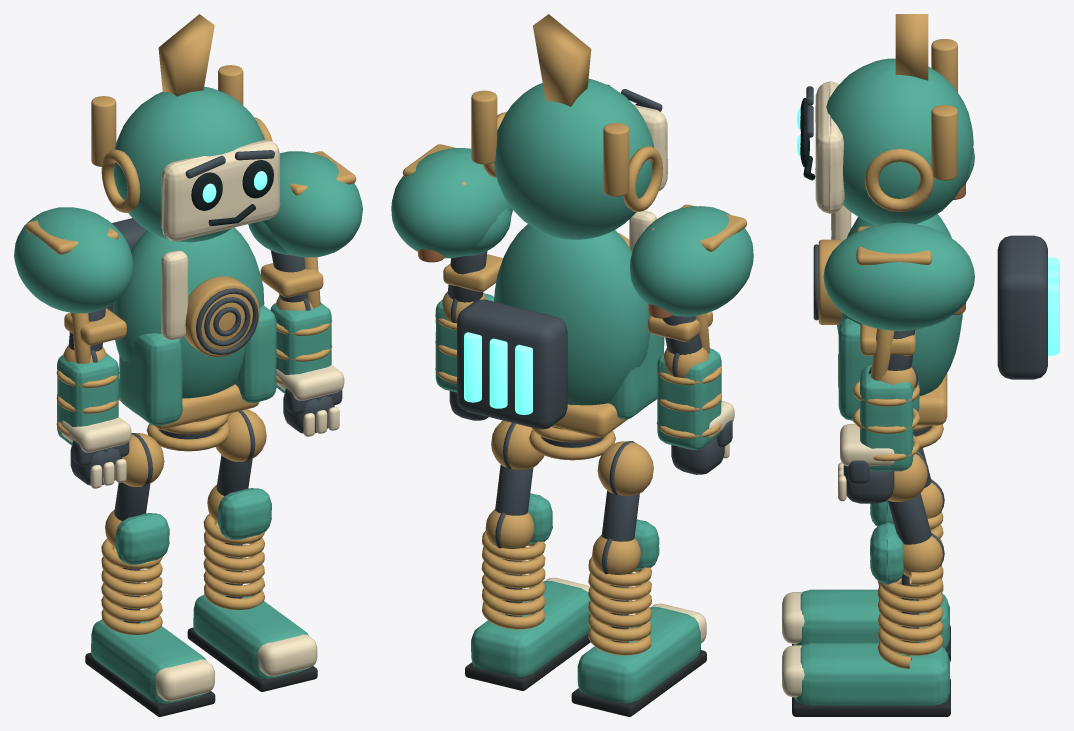
Rendered from spring_duelist.t4.glb.
3 views of the same model, side by side, from view 1: azimuth 30°, elevation 25°; view 2: azimuth 150°, elevation 25°; view 3: azimuth 270°, elevation 25° (orthographic). The views are drawn at different scales.
Visible parts, largest first — view 1: slot_torso__clay_duelist_jade__clay, slot_head__clay_duelist_jade__clay, slot_armL__clay_duelist_jade__clay, slot_armR__clay_duelist_jade__clay, slot_head__worn_warm_brass__protected, slot_legL__clay_duelist_jade__clay, slot_legR__clay_duelist_jade__clay, slot_head__clay_warm_ivory__clay, slot_legR__worn_warm_brass__protected, slot_torso__worn_warm_brass__protected, slot_legL__worn_warm_brass__protected, armL_elbow__clay_duelist_jade__clay (+24 smaller); view 2: slot_torso__clay_duelist_jade__clay, slot_head__clay_duelist_jade__clay, slot_armL__clay_duelist_jade__clay, slot_armR__clay_duelist_jade__clay, slot_torso__forged_bluelead_steel__protected, slot_head__worn_warm_brass__protected, slot_legL__worn_warm_brass__protected, slot_legR__worn_warm_brass__protected, slot_legL__clay_duelist_jade__clay, slot_legR__clay_duelist_jade__clay, armL_elbow__clay_duelist_jade__clay, slot_torso__mint_reticle__protected (+14 smaller); view 3: slot_head__clay_duelist_jade__clay, slot_armR__clay_duelist_jade__clay, slot_legR__clay_duelist_jade__clay, slot_torso__forged_bluelead_steel__protected, slot_legR__worn_warm_brass__protected, slot_head__worn_warm_brass__protected, slot_torso__clay_duelist_jade__clay, slot_legL__clay_duelist_jade__clay, armR_elbow__clay_duelist_jade__clay, slot_armR__worn_warm_brass__protected, slot_head__clay_warm_ivory__clay, slot_torso__worn_warm_brass__protected (+13 smaller).
Boxes of the visible parts, x1,y1,x2,y2 form: slot_torso__clay_duelist_jade__clay: [113, 227, 276, 425]; slot_head__clay_duelist_jade__clay: [113, 86, 264, 242]; slot_armL__clay_duelist_jade__clay: [14, 207, 133, 313]; slot_armR__clay_duelist_jade__clay: [248, 151, 362, 257]; slot_head__worn_warm_brass__protected: [91, 14, 272, 212]; slot_legL__clay_duelist_jade__clay: [91, 513, 206, 703]; slot_legR__clay_duelist_jade__clay: [193, 488, 308, 678]; slot_head__clay_warm_ivory__clay: [161, 140, 280, 241]; slot_legR__worn_warm_brass__protected: [203, 409, 266, 609]; slot_torso__worn_warm_brass__protected: [119, 276, 259, 451]; slot_legL__worn_warm_brass__protected: [101, 433, 164, 634]; armL_elbow__clay_duelist_jade__clay: [57, 353, 118, 445]; slot_torso__clay_duelist_jade__clay: [494, 224, 664, 419]; slot_head__clay_duelist_jade__clay: [494, 78, 653, 239]; slot_armL__clay_duelist_jade__clay: [630, 206, 753, 316]; slot_armR__clay_duelist_jade__clay: [391, 148, 512, 258]; slot_torso__forged_bluelead_steel__protected: [457, 299, 603, 447]; slot_head__worn_warm_brass__protected: [471, 14, 662, 211]; slot_legL__worn_warm_brass__protected: [588, 441, 653, 655]; slot_legR__worn_warm_brass__protected: [481, 420, 545, 629]; slot_legL__clay_duelist_jade__clay: [577, 519, 700, 703]; slot_legR__clay_duelist_jade__clay: [471, 493, 590, 677]; armL_elbow__clay_duelist_jade__clay: [657, 348, 721, 449]; slot_torso__mint_reticle__protected: [464, 332, 532, 414]; slot_head__clay_duelist_jade__clay: [826, 58, 973, 225]; slot_armR__clay_duelist_jade__clay: [823, 222, 974, 331]; slot_legR__clay_duelist_jade__clay: [794, 522, 949, 705]; slot_torso__forged_bluelead_steel__protected: [813, 235, 1047, 436]; slot_legR__worn_warm_brass__protected: [877, 451, 943, 669]; slot_head__worn_warm_brass__protected: [864, 14, 957, 212]; slot_torso__clay_duelist_jade__clay: [837, 214, 962, 420]; slot_legL__clay_duelist_jade__clay: [794, 500, 949, 648]; armR_elbow__clay_duelist_jade__clay: [860, 364, 913, 471]; slot_armR__worn_warm_brass__protected: [856, 226, 931, 390]; slot_head__clay_warm_ivory__clay: [815, 81, 844, 213]; slot_torso__worn_warm_brass__protected: [818, 239, 947, 448].
Bounding box in the file's own units: 1.69 × 3.13 × 1.17.
